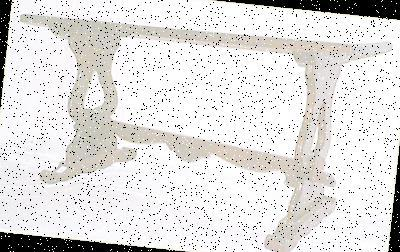Mesa: (1, 3, 400, 251)
